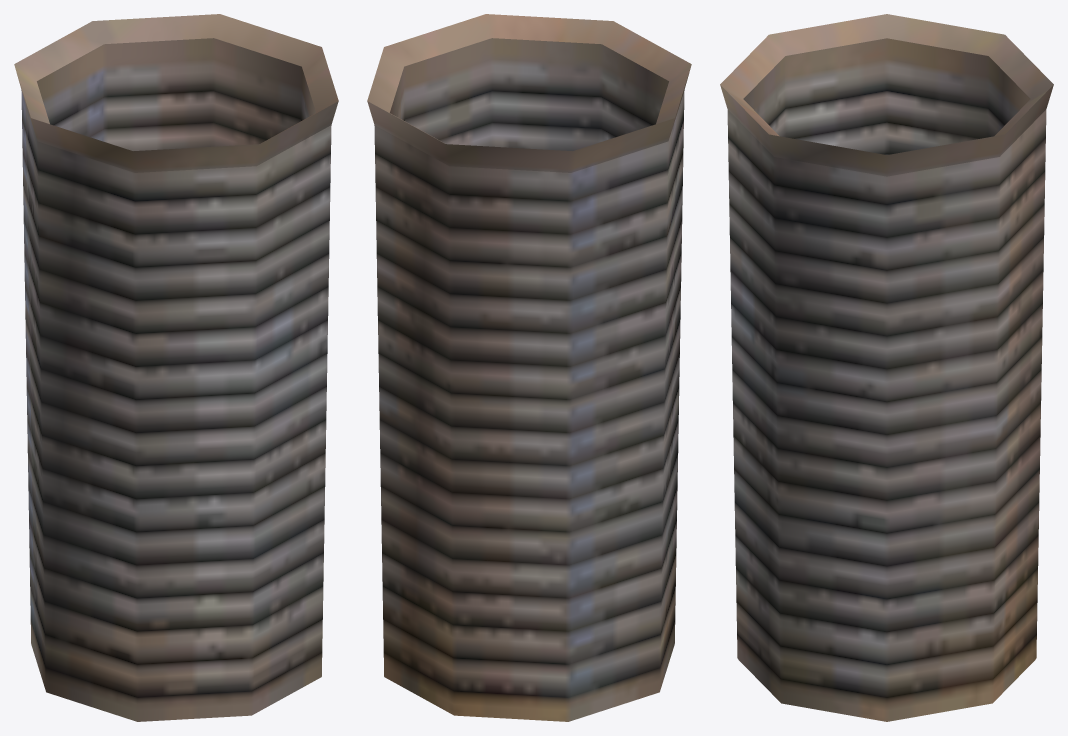
The model's file is edb_con_tato_cup_s4_l0.fbx.
3 renders of one model, left to right at view 1: azimuth 30°, elevation 25°; view 2: azimuth 150°, elevation 25°; view 3: azimuth 270°, elevation 25°, orthographic.
Parts seen in each view (by area): view 1: mesh_node; view 2: mesh_node; view 3: mesh_node.
Part boxes in pixels (x1=…): mesh_node: x1=14, y1=14, x2=338, y2=721; mesh_node: x1=367, y1=14, x2=691, y2=721; mesh_node: x1=720, y1=14, x2=1053, y2=721.
Size of the model in its own units: 0.1288 by 0.2445 by 0.1288.
